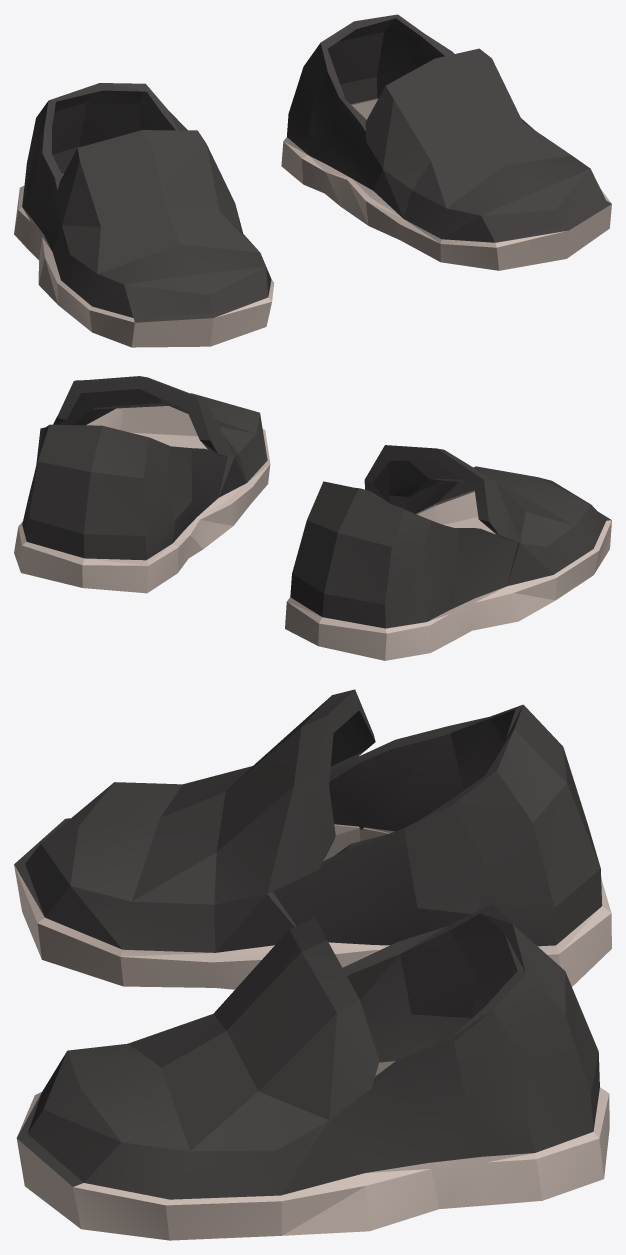
The model's file is shoe1.fbx.
3 renders of one model, top to bottom at view 1: azimuth 30°, elevation 25°; view 2: azimuth 150°, elevation 25°; view 3: azimuth 270°, elevation 25°, orthographic. The views are drawn at different scales.
Visible parts, largest first — view 1: basic shoes; view 2: basic shoes; view 3: basic shoes.
Boxes of the visible parts, left/top/right/bottom form: basic shoes: left=14, top=14, right=611, bottom=347; basic shoes: left=14, top=376, right=611, bottom=660; basic shoes: left=14, top=689, right=611, bottom=1240.
Size of the model in its own units: 154 by 40.93 by 99.51.
